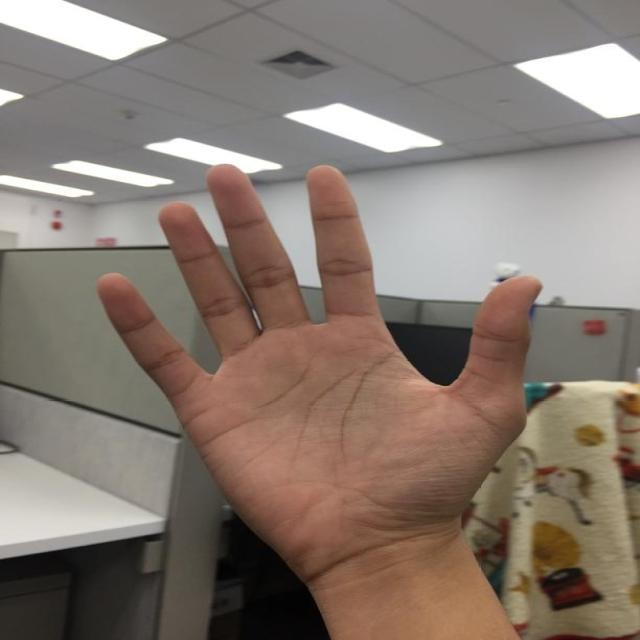hand: (91, 158, 546, 636)
